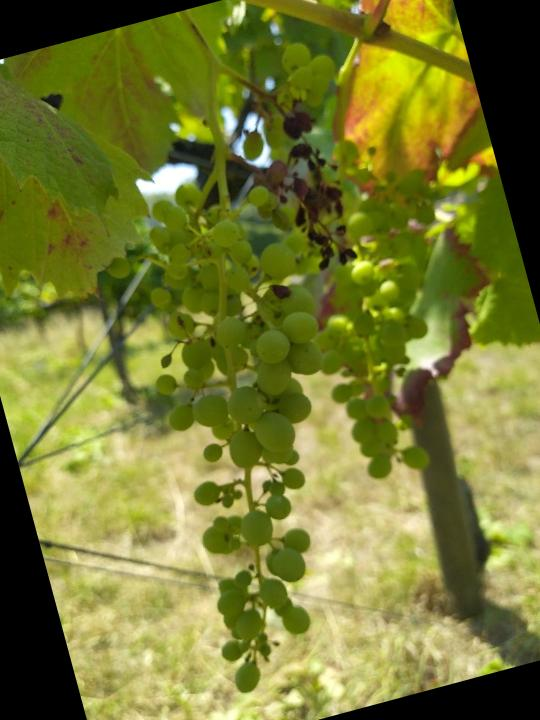grape: (86, 158, 421, 708), (249, 64, 378, 277)
